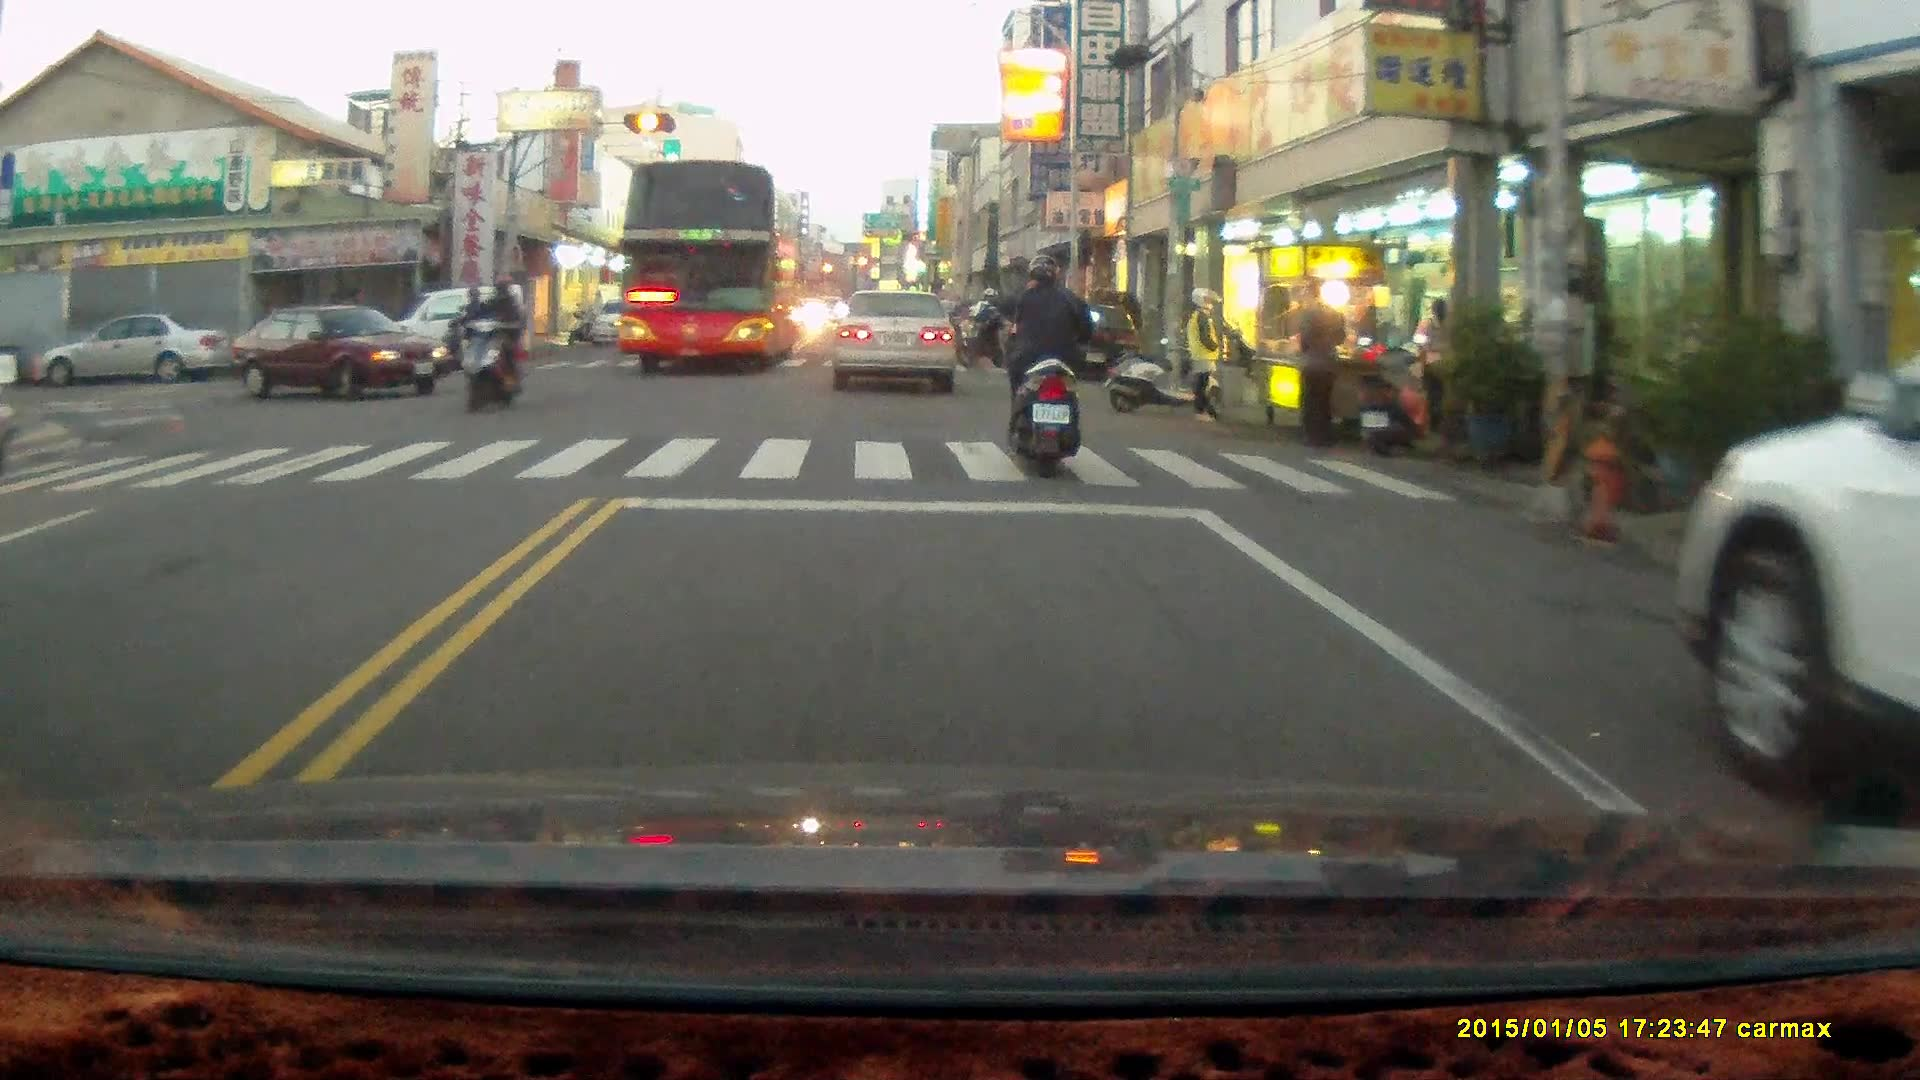pedestrian: (1293, 271, 1345, 446), (1181, 280, 1222, 421), (1412, 298, 1453, 438)
rider: (994, 243, 1103, 473), (459, 271, 523, 412), (955, 284, 1017, 368), (439, 286, 497, 371)
vehicle: (1667, 322, 1920, 829), (619, 162, 799, 379), (232, 302, 446, 399), (30, 311, 214, 389), (832, 289, 962, 394), (1046, 297, 1147, 381), (592, 295, 665, 351)
